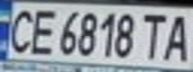1: (96, 9, 121, 57)
6: (54, 7, 81, 56)
8: (112, 9, 142, 60), (75, 8, 100, 57)
A: (157, 10, 193, 63)
C: (3, 4, 39, 55)
E: (24, 6, 60, 56)
T: (136, 10, 172, 61)
